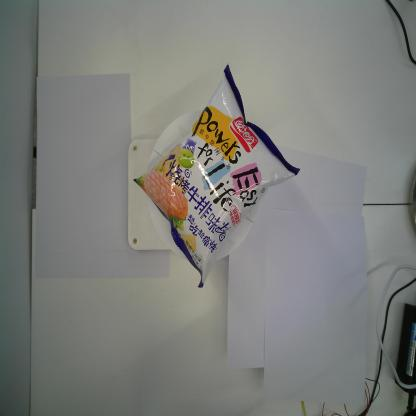Puffed Food: (132, 63, 301, 290)
